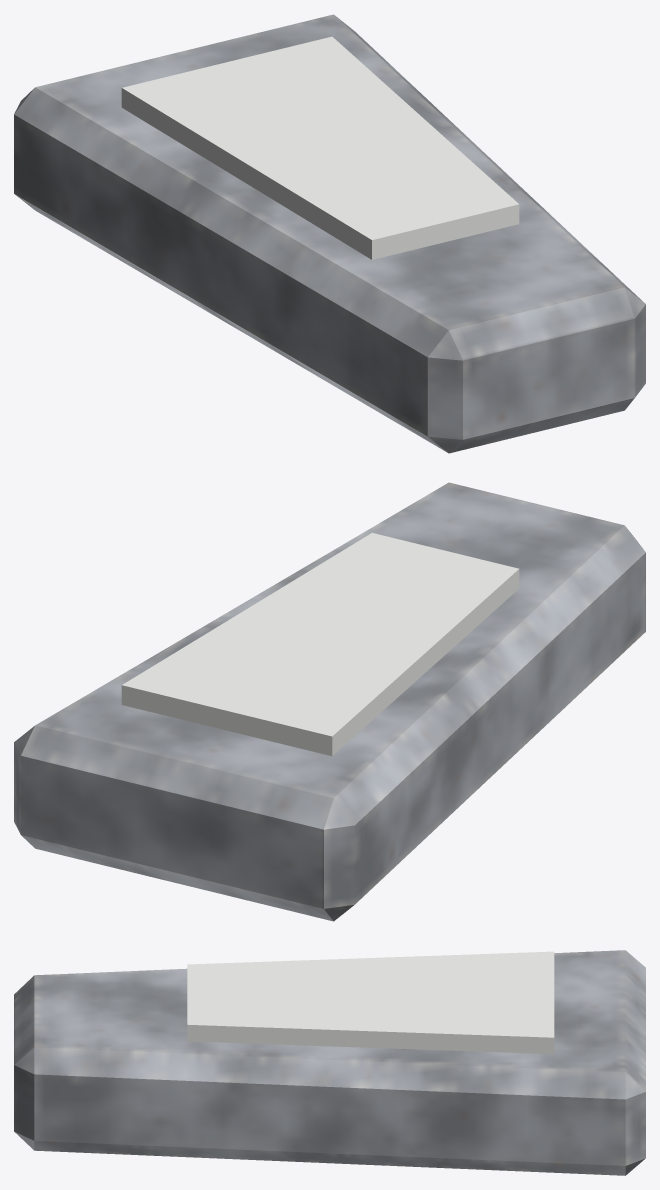
File: chassis_scout.glb
The picture shows the model from 3 angles, top to bottom: view 1: azimuth 30°, elevation 25°; view 2: azimuth 150°, elevation 25°; view 3: azimuth 270°, elevation 25°; orthographic projection. The views are drawn at different scales.
Visible parts, largest first — view 1: chassis_scout, deck; view 2: chassis_scout, deck; view 3: chassis_scout, deck.
Part boxes in pixels (x1=…): chassis_scout: x1=14, y1=14, x2=645, y2=453; deck: x1=121, y1=36, x2=519, y2=259; chassis_scout: x1=14, y1=482, x2=645, y2=921; deck: x1=121, y1=533, x2=519, y2=756; chassis_scout: x1=14, y1=950, x2=645, y2=1175; deck: x1=187, y1=951, x2=554, y2=1054.
Bounding box in the file's own units: 0.81 × 0.325 × 1.55.
Materials: 2 (1 with a texture image).
